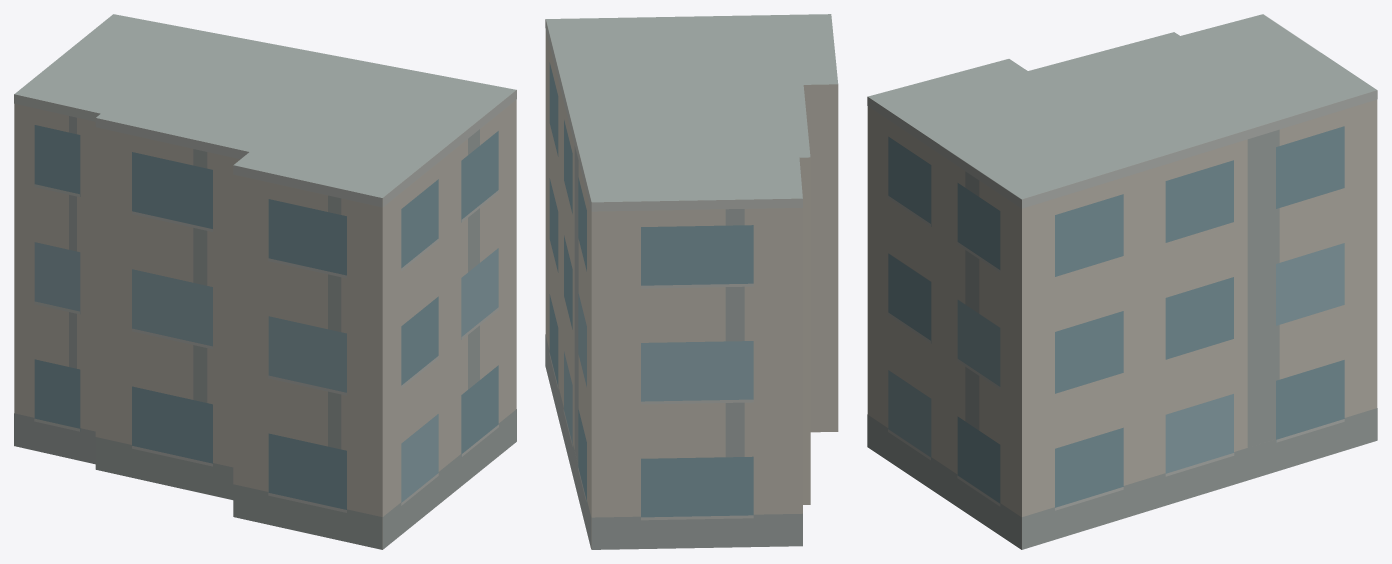
The model's file is residential-7e4280e9-9e07-47a3-9072-4c5c54c1cb24.glb.
The picture shows the model from 3 angles, left to right: view 1: azimuth 30°, elevation 25°; view 2: azimuth 150°, elevation 25°; view 3: azimuth 270°, elevation 25°; orthographic projection.
Parts seen in each view (by area): view 1: residential-7e4280e9-9e07-47a3-9072-4c5c54c1cb24.tmp; view 2: residential-7e4280e9-9e07-47a3-9072-4c5c54c1cb24.tmp; view 3: residential-7e4280e9-9e07-47a3-9072-4c5c54c1cb24.tmp.
Boxes of the visible parts, bbox=[...] form: residential-7e4280e9-9e07-47a3-9072-4c5c54c1cb24.tmp: bbox=[14, 14, 516, 549]; residential-7e4280e9-9e07-47a3-9072-4c5c54c1cb24.tmp: bbox=[545, 14, 838, 549]; residential-7e4280e9-9e07-47a3-9072-4c5c54c1cb24.tmp: bbox=[867, 14, 1377, 549].
Bounding box in the file's own units: 10.39 × 9.15 × 12.08.
